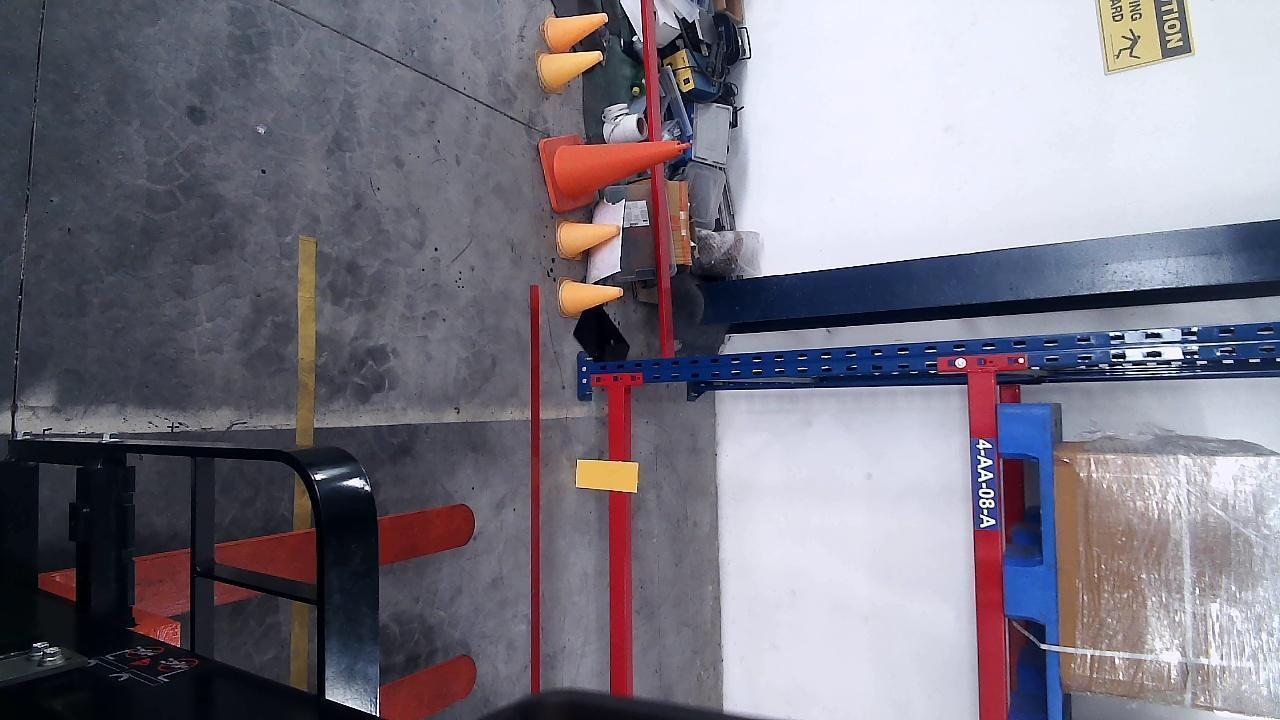red_line: (531, 285, 542, 690)
yellow_line: (296, 235, 319, 444)
